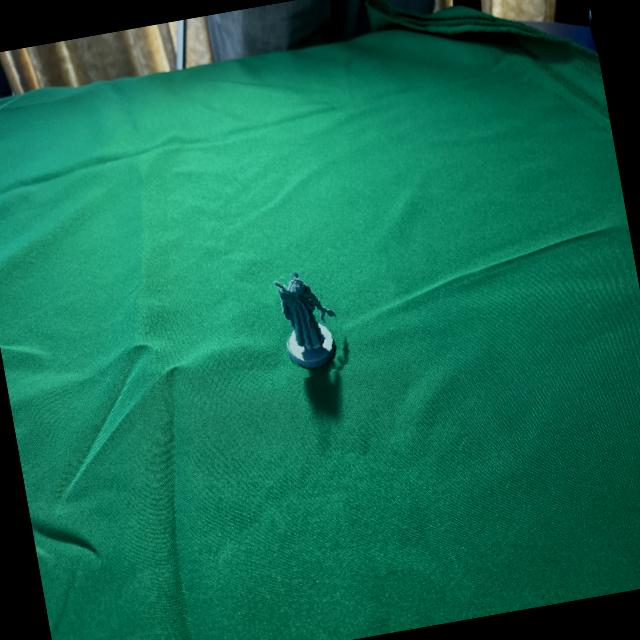isis_follower: (270, 262, 352, 380)
